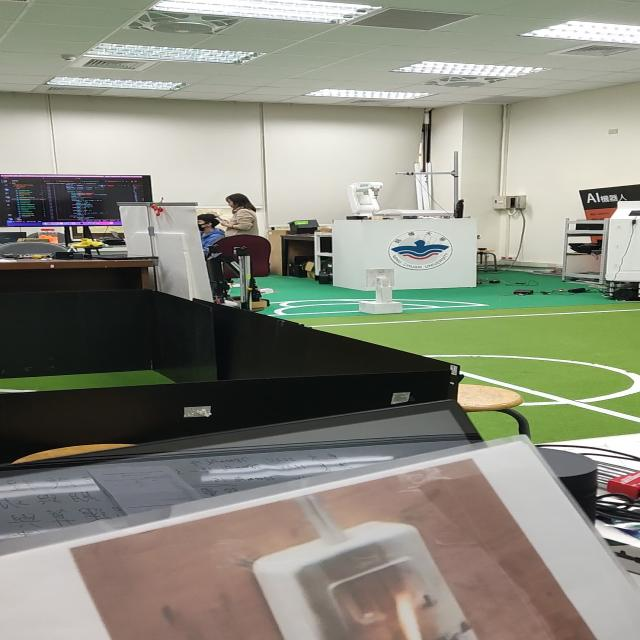person: (215, 186, 261, 246), (194, 205, 223, 242)
